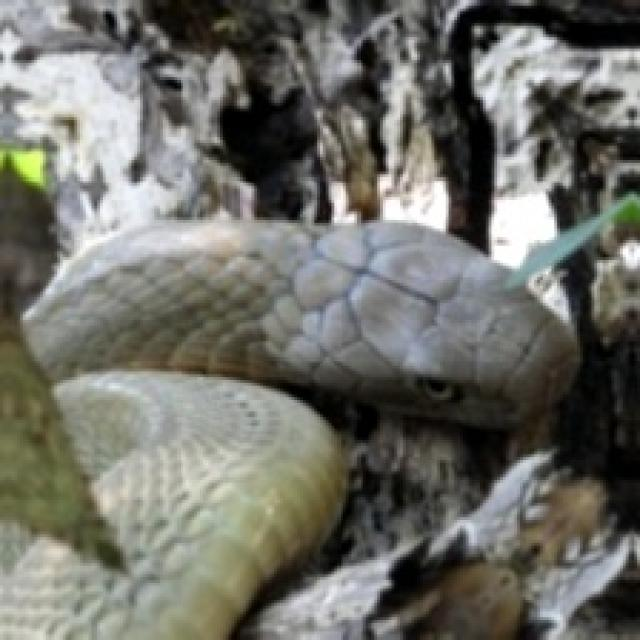king cobra: (0, 223, 577, 637)
